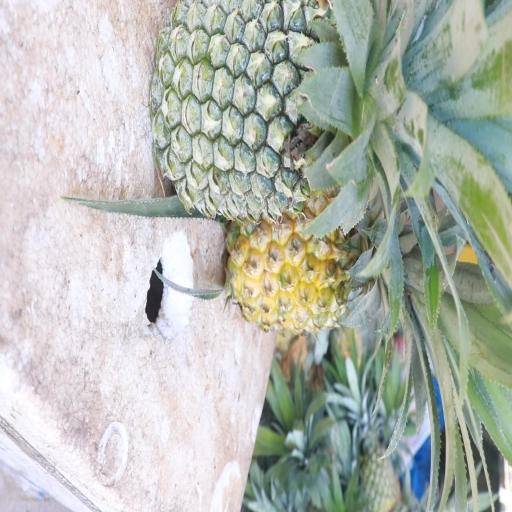Pineapple - v8 v1: (230, 202, 490, 384)
